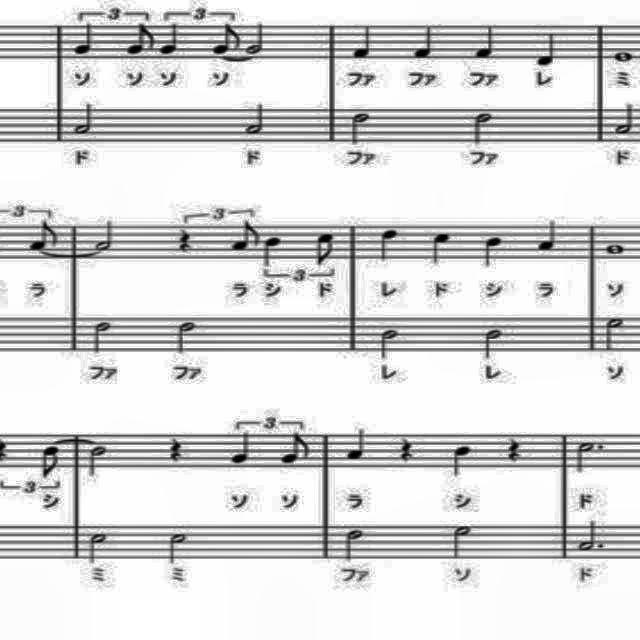Eighth-note: (120, 20, 160, 64), (223, 216, 264, 256), (307, 226, 343, 270), (21, 218, 65, 254), (204, 20, 243, 56), (278, 432, 314, 470), (34, 442, 68, 482)
Full-note: (598, 237, 630, 260), (612, 46, 636, 66)
Half-dot: (566, 434, 612, 482), (570, 518, 610, 558)
Half-note: (443, 515, 489, 563), (84, 316, 124, 356), (468, 101, 499, 150), (170, 314, 204, 358), (238, 98, 274, 138), (90, 216, 122, 258), (339, 522, 369, 566), (597, 314, 631, 352), (80, 526, 112, 566), (374, 322, 404, 364), (68, 98, 95, 142), (163, 530, 195, 566), (240, 18, 270, 56), (80, 440, 108, 480), (348, 104, 372, 150), (610, 102, 640, 138), (478, 324, 507, 361)
Quarter-note: (408, 20, 444, 64), (372, 222, 408, 266), (424, 226, 460, 268), (442, 440, 478, 482), (471, 14, 499, 66), (340, 426, 376, 466), (475, 228, 507, 272), (226, 428, 258, 472), (154, 18, 186, 58), (348, 22, 379, 62), (533, 28, 561, 72), (259, 229, 287, 273), (66, 20, 100, 56), (533, 218, 561, 256)
Quarter-rest: (502, 430, 530, 470), (164, 429, 192, 466), (172, 222, 200, 258), (388, 432, 419, 464)
